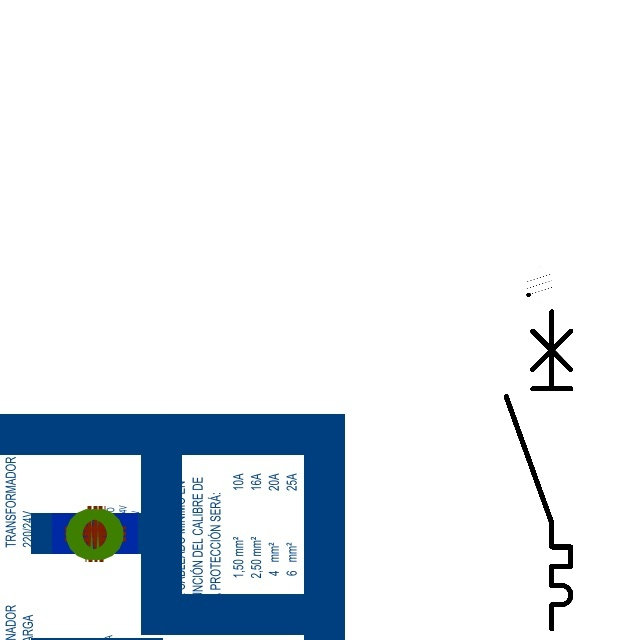interruptor_termomagnetico: (498, 303, 579, 636)
